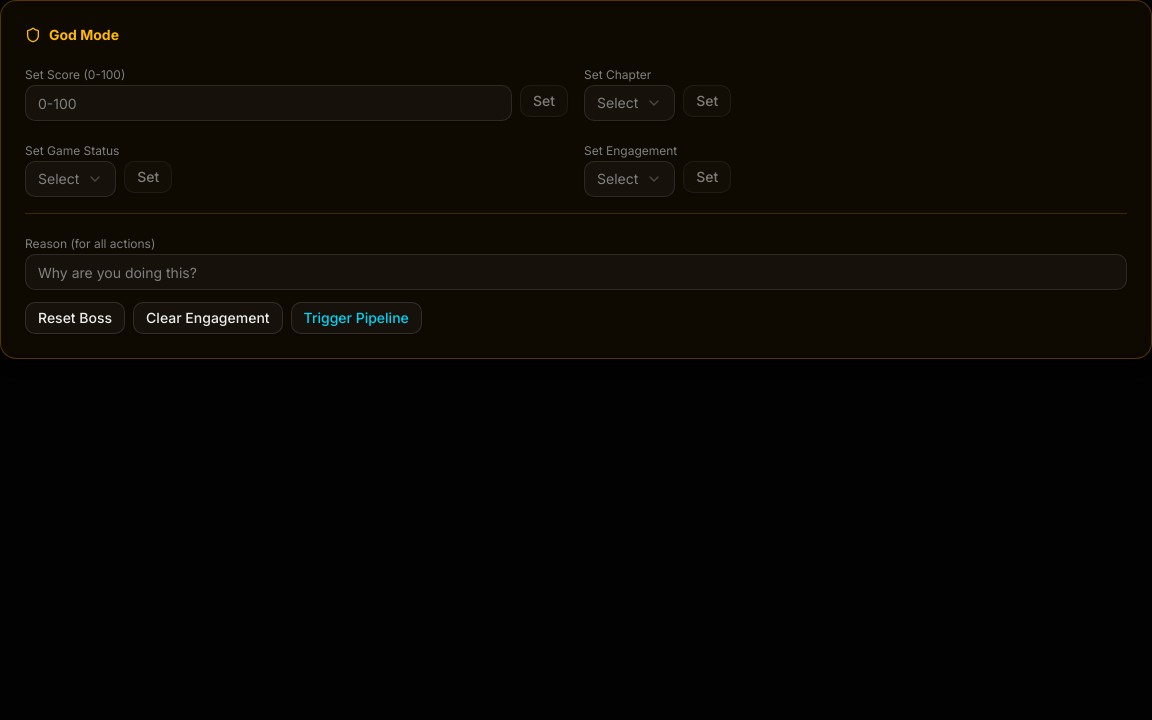
Test: GodModePanel › opens confirmation dialog when Reset Boss is clicked
Click the button "Reset Boss".
click(75, 318)  # box [25, 302, 125, 334]
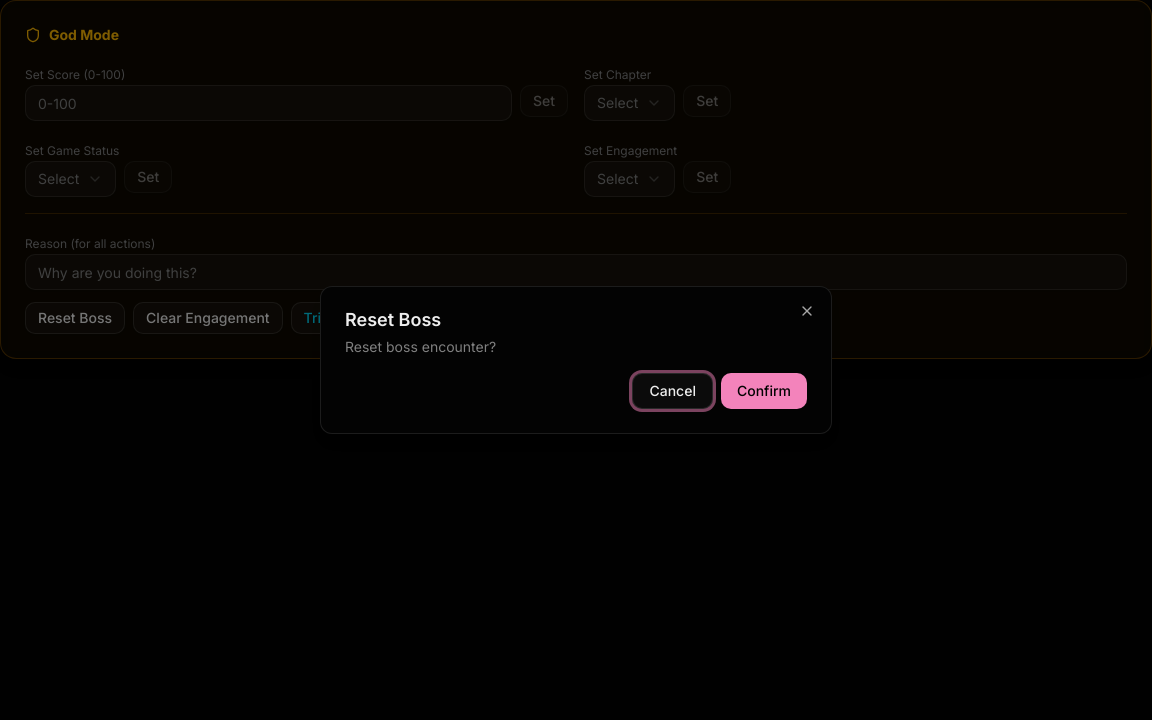
Result: the text "Reset boss encounter?" is shown at [345, 338, 496, 355]
Result: the button "Confirm" is shown at [721, 373, 807, 409]
Result: the button "Cancel" is shown at [632, 373, 713, 409]
